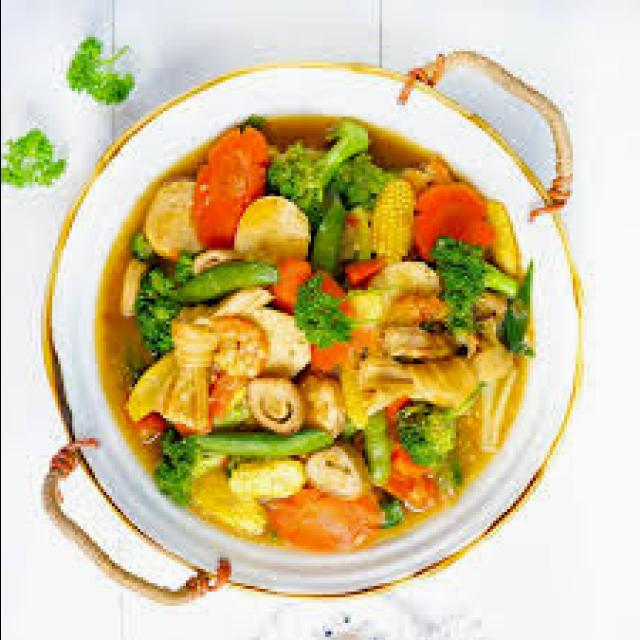capcay: (94, 114, 535, 558)
